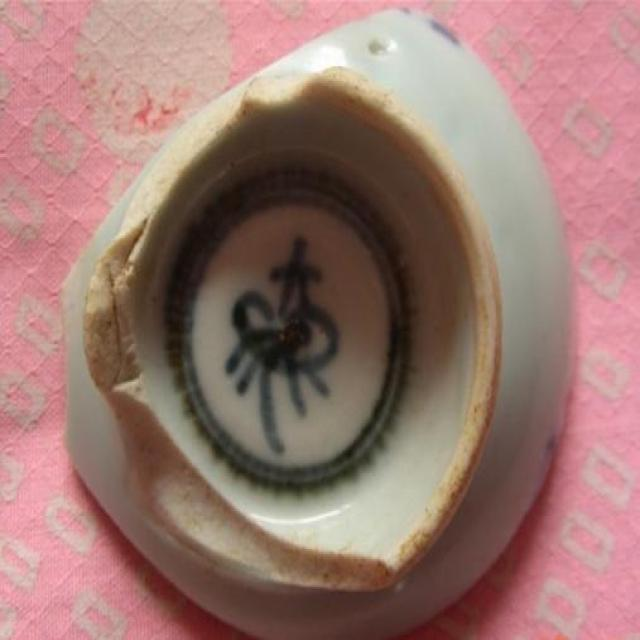-Other waste - ceramic-: (60, 23, 575, 640)
